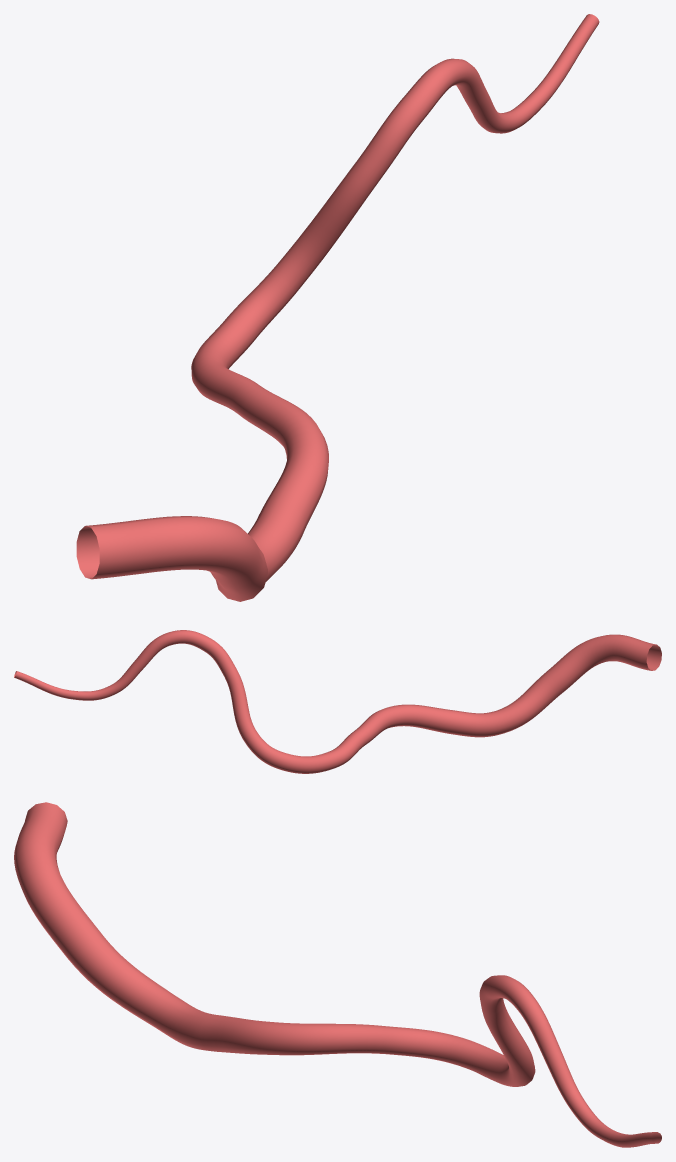
Rendered from Anterior_inferior_cerebellar_artery.l_BezierCurve.238.glb.
The picture shows the model from 3 angles, top to bottom: view 1: azimuth 30°, elevation 25°; view 2: azimuth 150°, elevation 25°; view 3: azimuth 270°, elevation 25°; orthographic projection. The views are drawn at different scales.
Parts seen in each view (by area): view 1: Anterior_inferior_cerebellar_artery.l_BezierCurve.238; view 2: Anterior_inferior_cerebellar_artery.l_BezierCurve.238; view 3: Anterior_inferior_cerebellar_artery.l_BezierCurve.238.
Boxes of the visible parts, x1,y1,x2,y2 form: Anterior_inferior_cerebellar_artery.l_BezierCurve.238: (76, 14, 599, 601); Anterior_inferior_cerebellar_artery.l_BezierCurve.238: (14, 630, 661, 773); Anterior_inferior_cerebellar_artery.l_BezierCurve.238: (14, 802, 661, 1147).
Bounding box in the file's own units: 0.0346 × 0.00983 × 0.0273.
